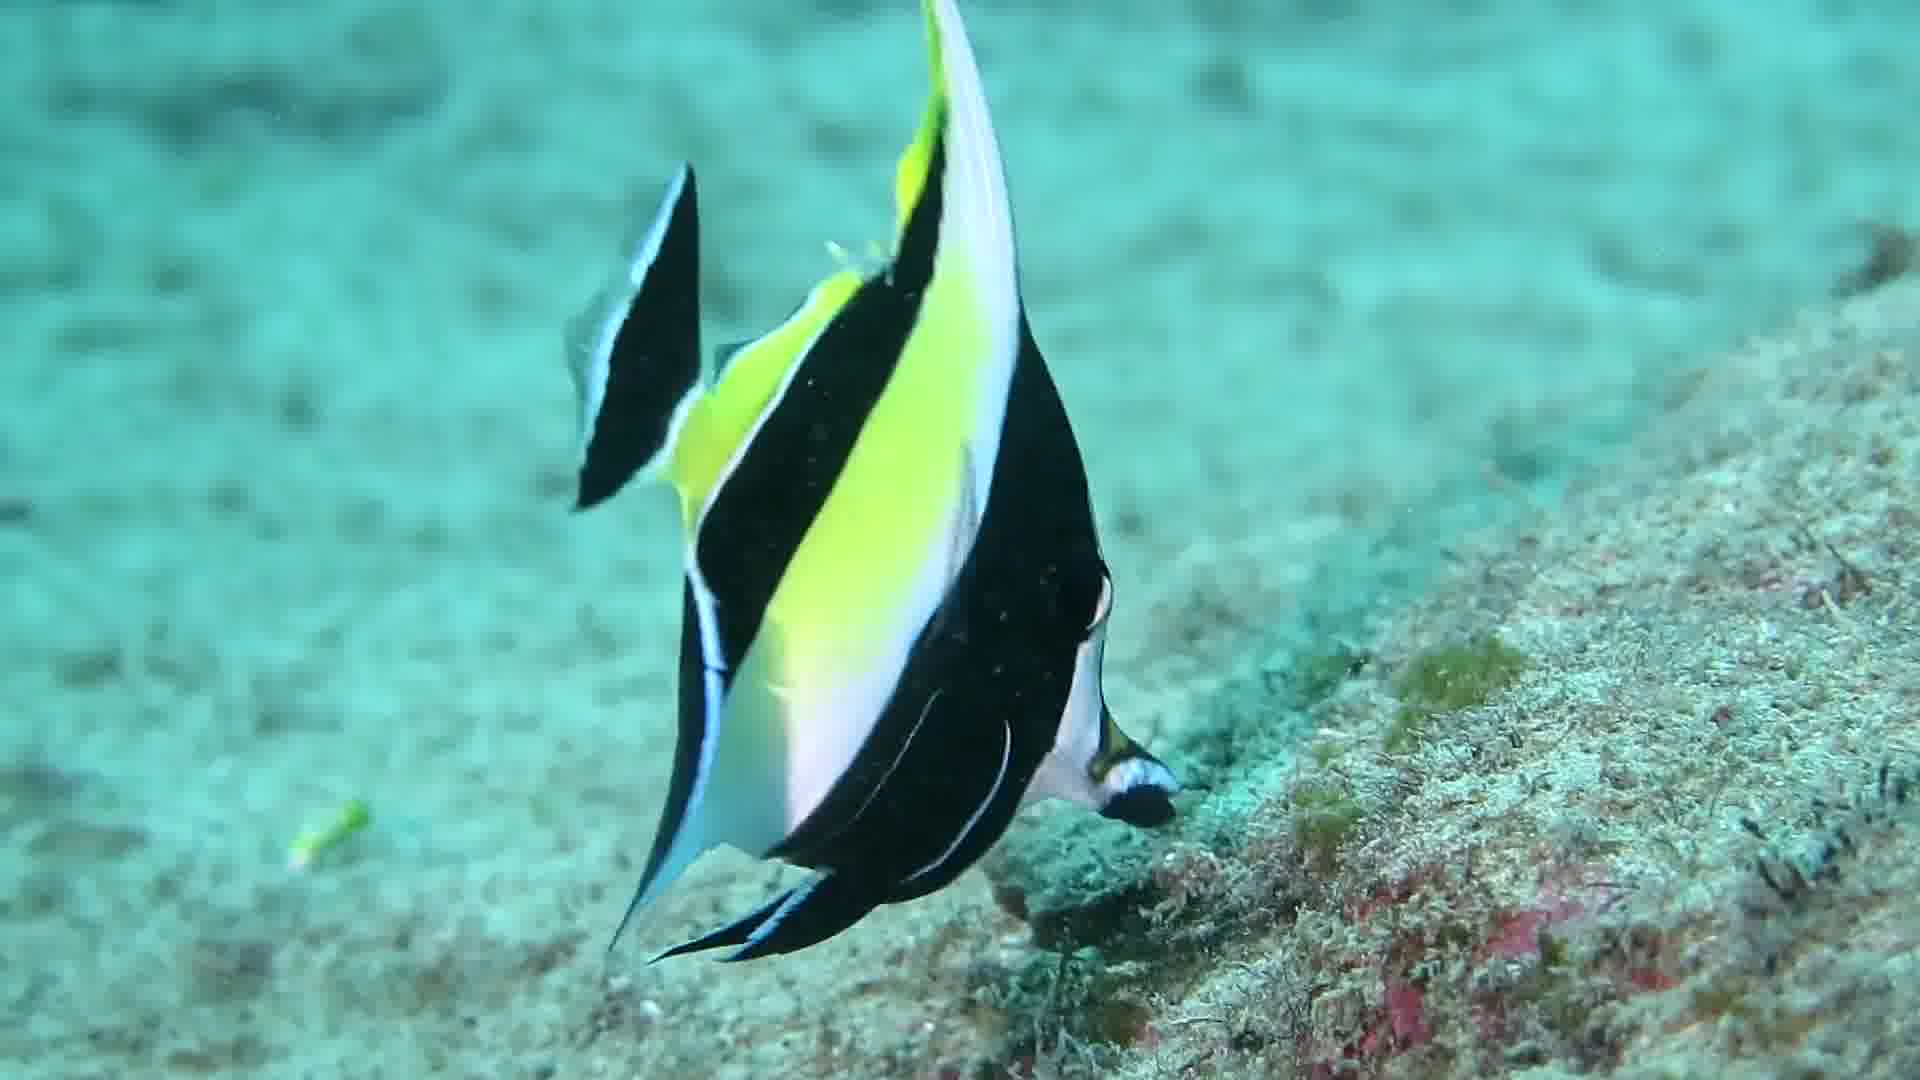Zanclus cornutus: (542, 185, 1222, 945)
